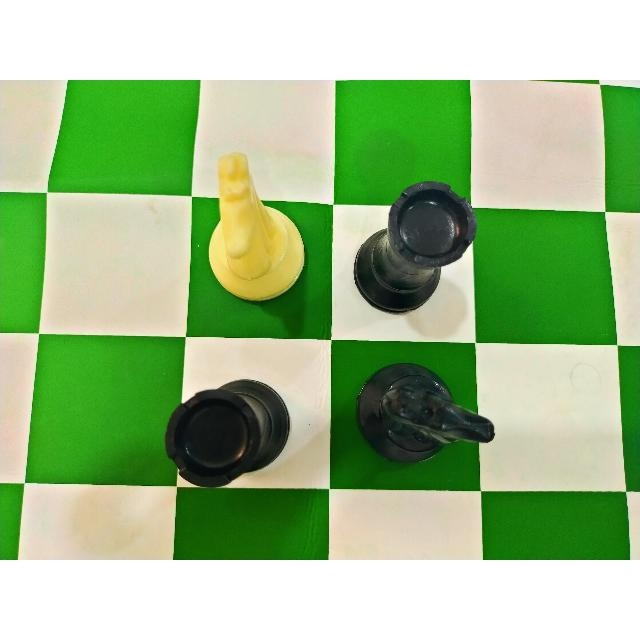black-knight: (344, 361, 497, 471)
black-rook: (350, 177, 479, 325), (158, 377, 303, 491)
white-knight: (199, 150, 310, 317)
